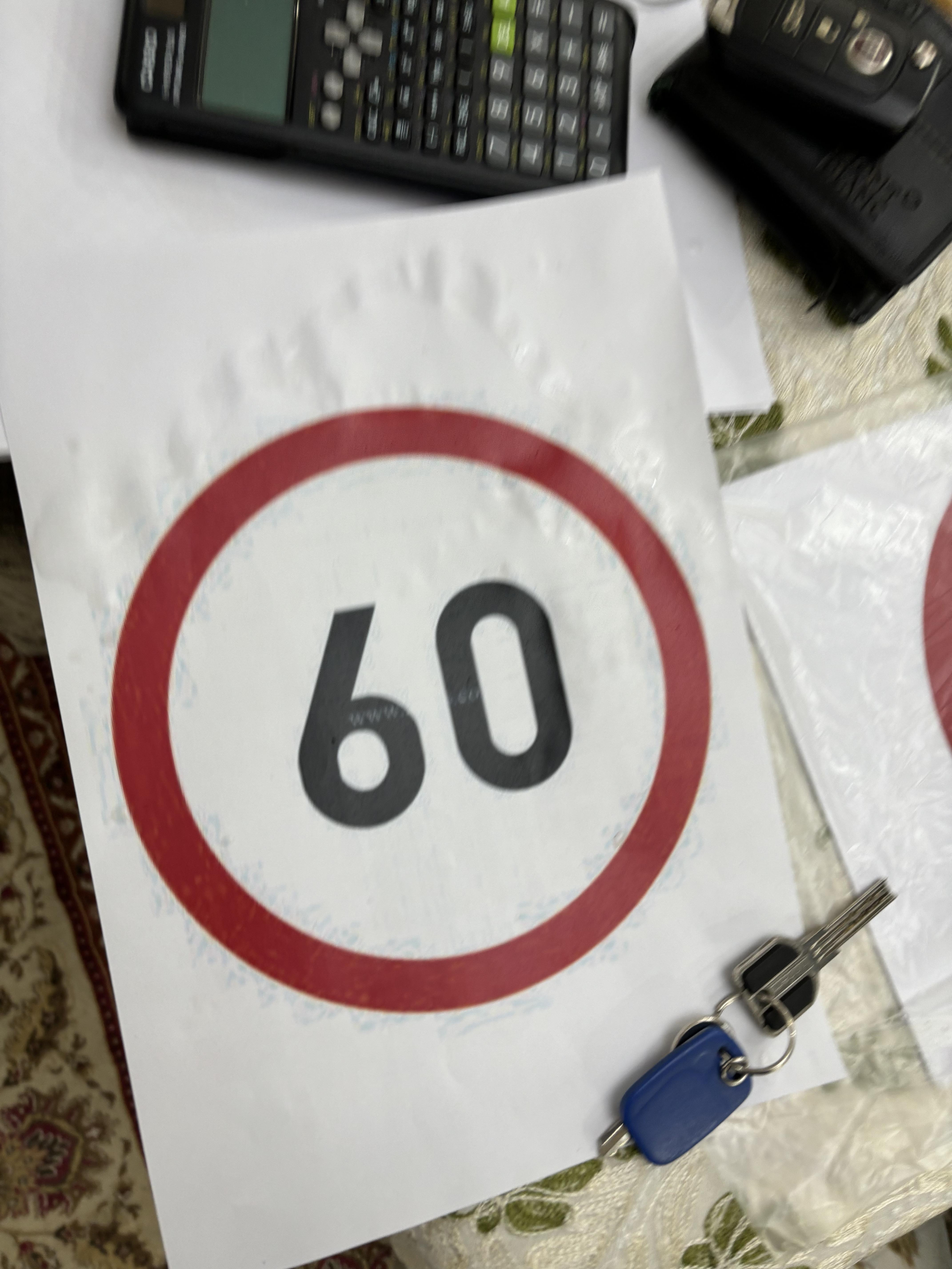60-Speed: (105, 394, 714, 1025)
